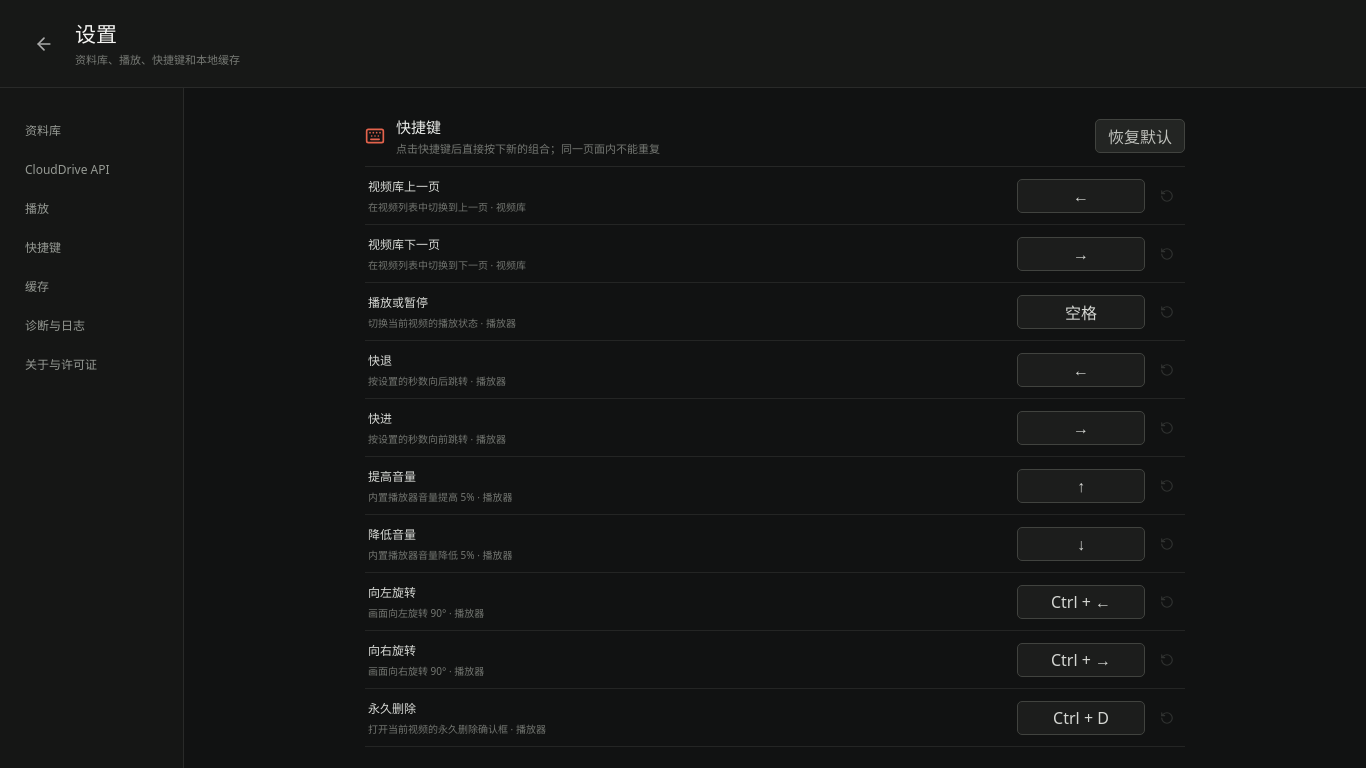
Test: SettingsPage › rejects duplicate shortcuts within the same window
(page scrolled)
Click the button named "快进快捷键" at (1081, 428), box [1017, 410, 1145, 444]
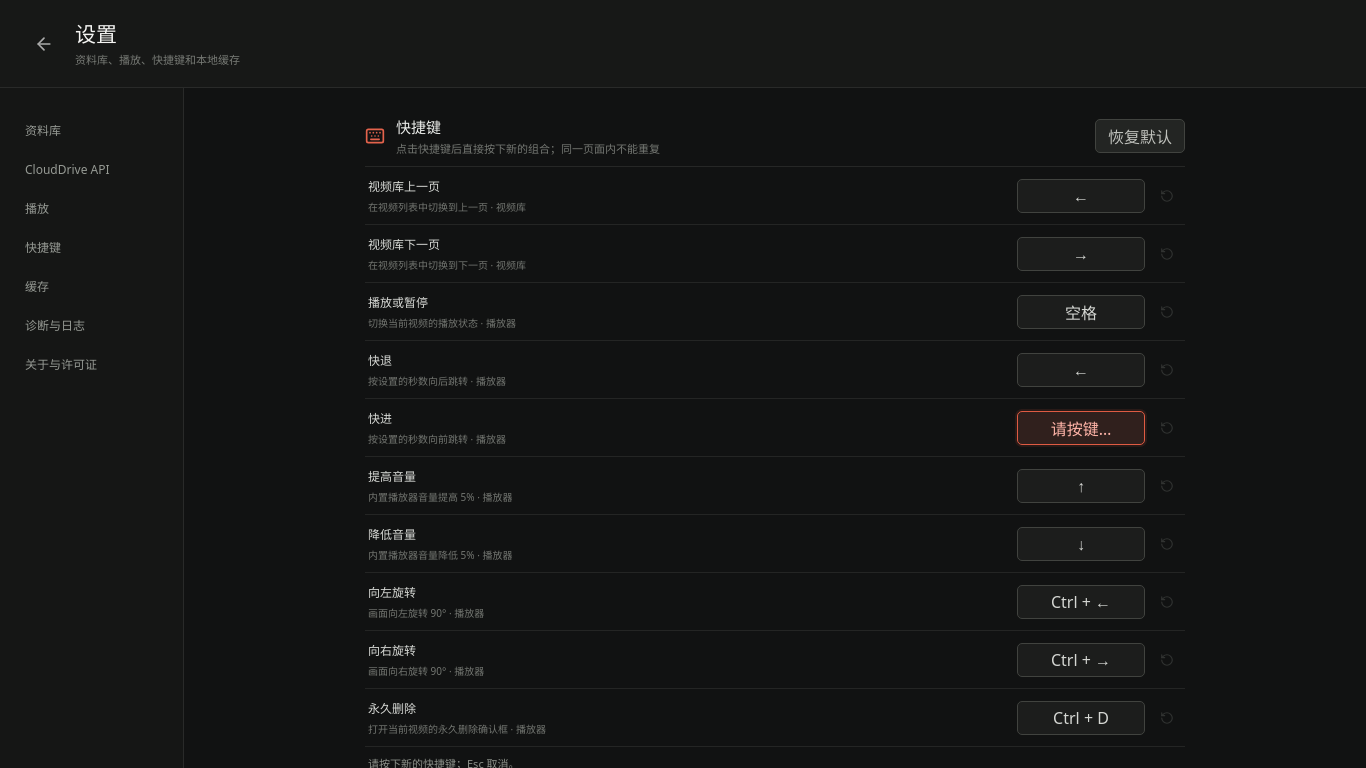
Press ArrowLeft in the button with aria-label "快进快捷键", box [1017, 410, 1145, 444]
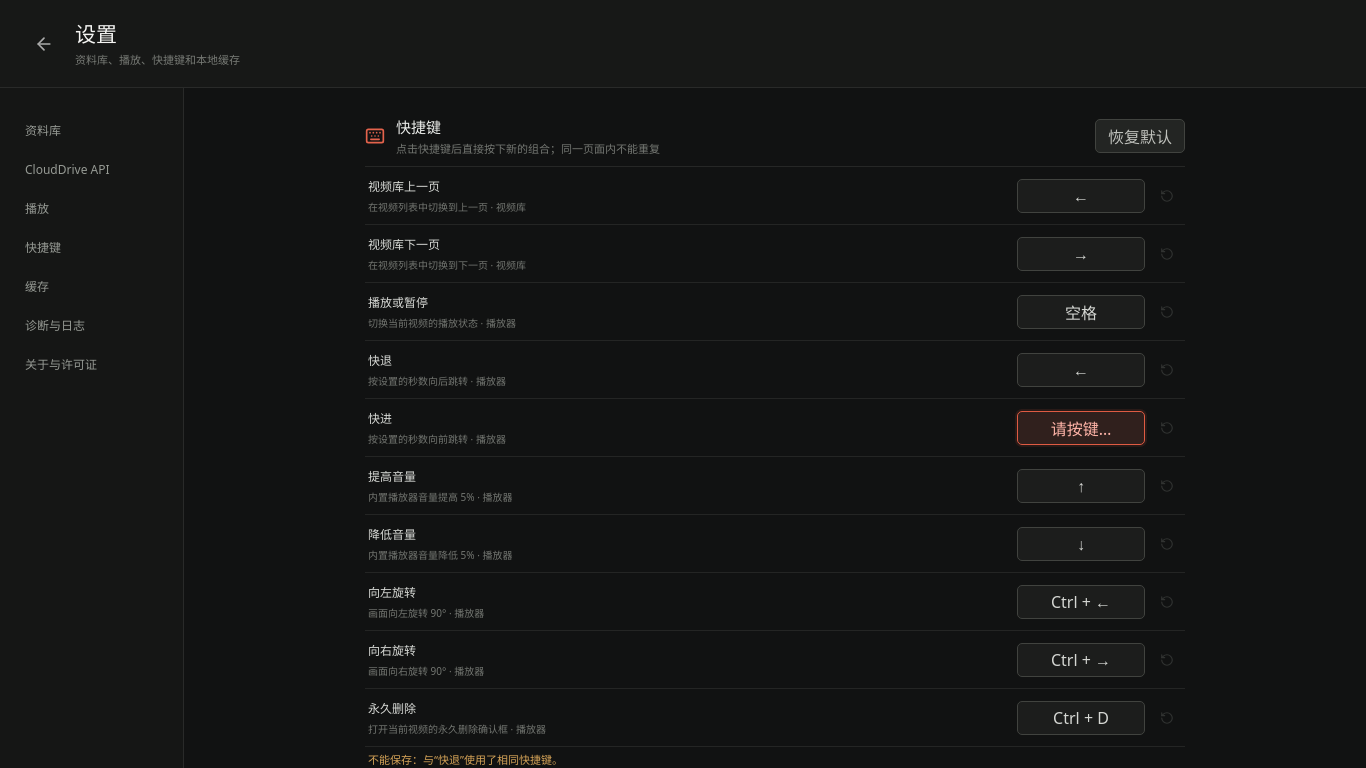
Now the text "不能保存：与“快退”使用了相同快捷键。" is shown, box [368, 752, 563, 767]
